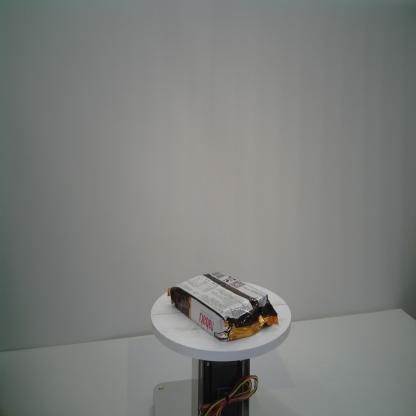Dessert: (166, 270, 281, 346)
